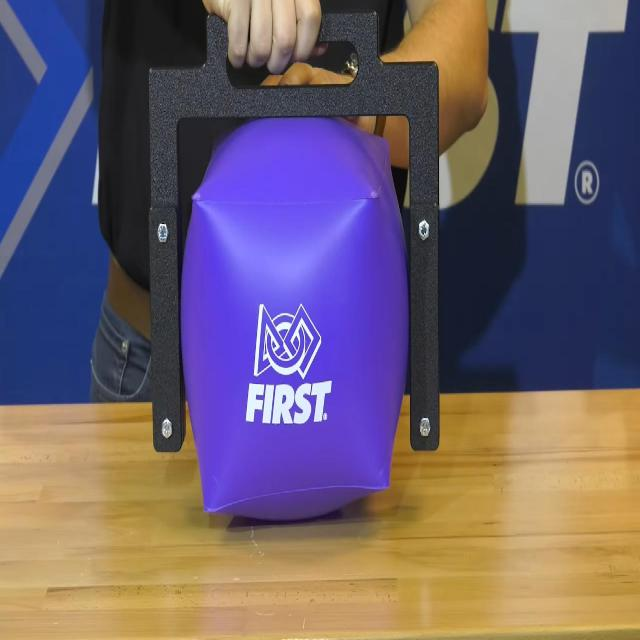frc_cube: (178, 116, 409, 526)
